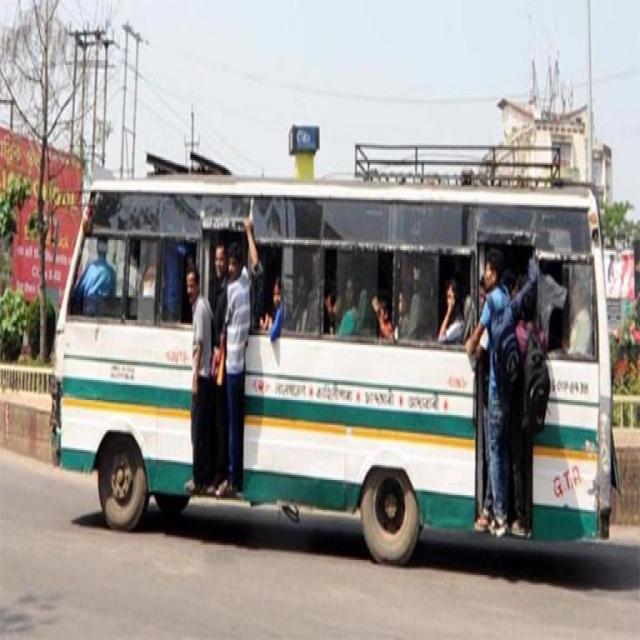Bus: (43, 149, 625, 567)
